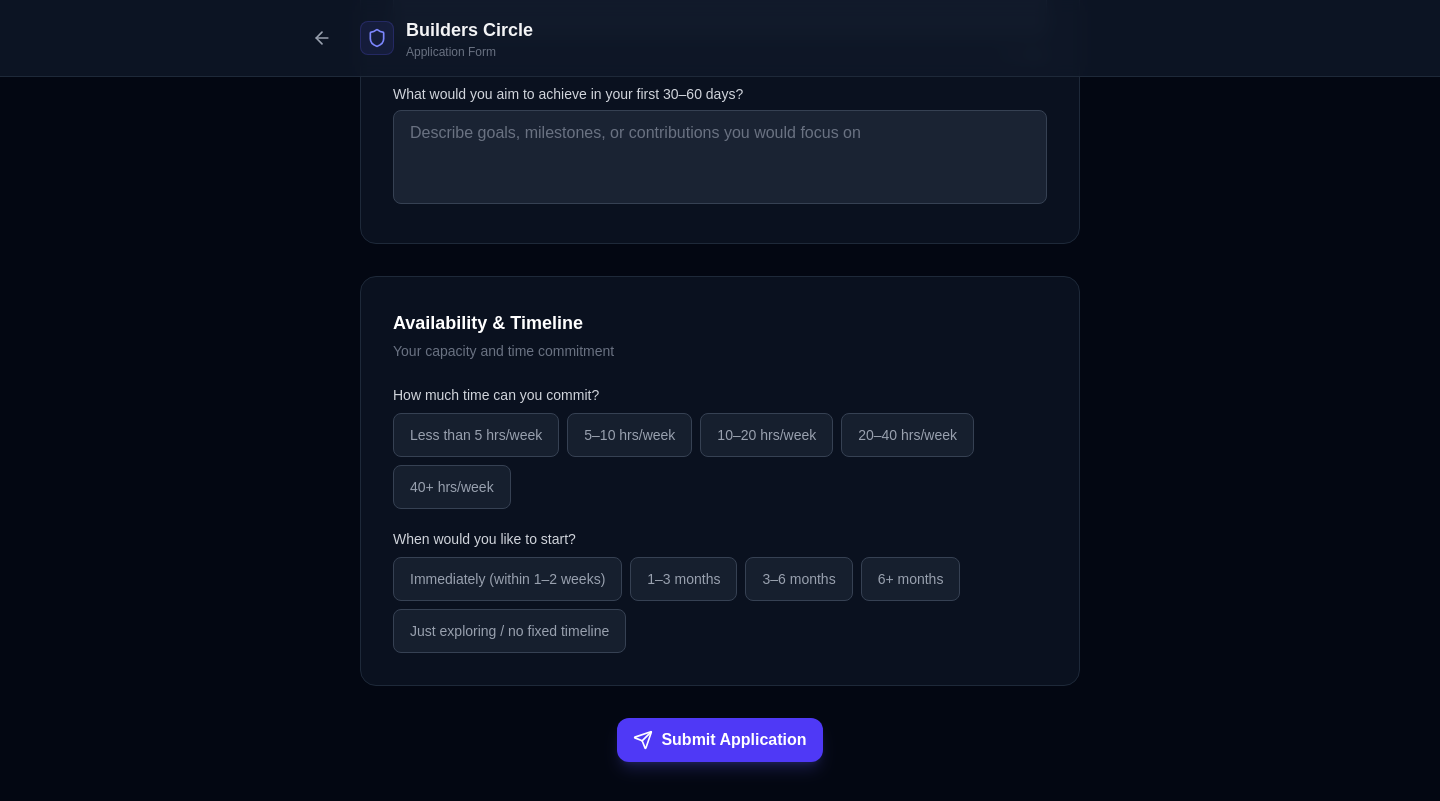
TriageApply Validation [Group 4] › clears individual field errors on change
This screenshot has width=1440, height=801.
(page scrolled)
Click the button "Submit Application": (720, 740) [617, 718, 823, 762]
(page scrolled)
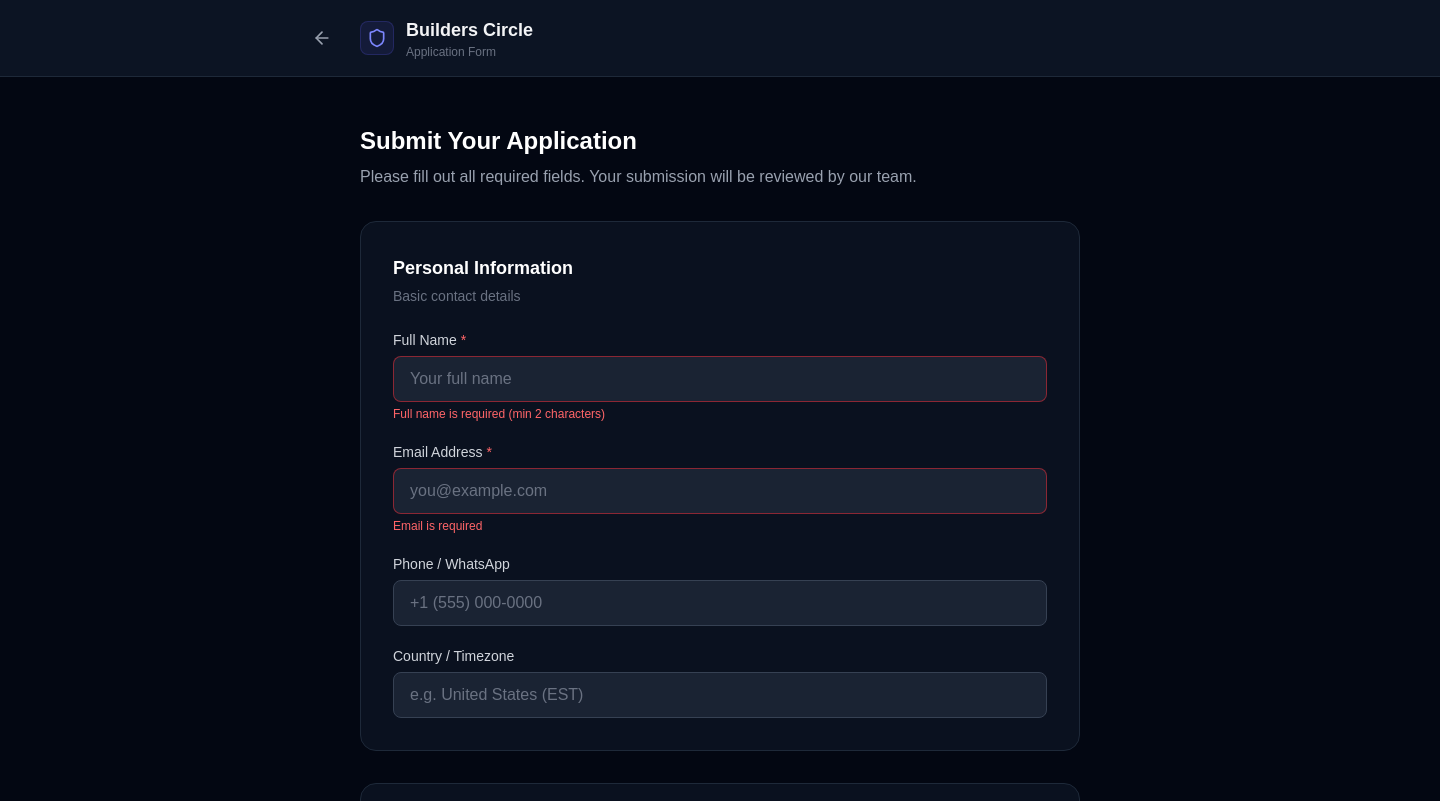
expect the text "Full name is required (min 2 characters)" is shown: met, box [393, 407, 605, 421]
In the field with placeholder "Your full name": (720, 379) [393, 356, 1047, 402], type "Jane Doe"
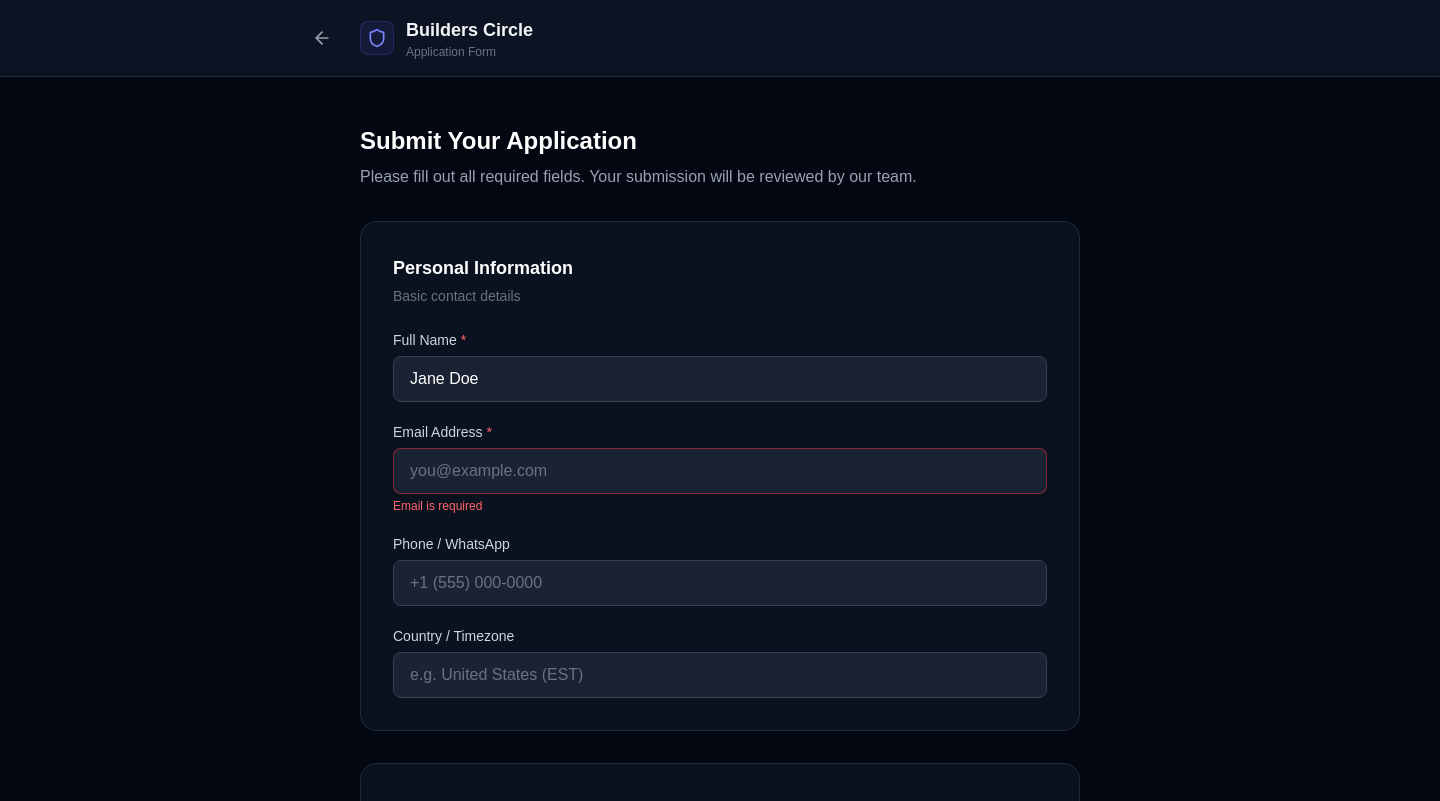
expect the text "Full name is required" is gone: met
